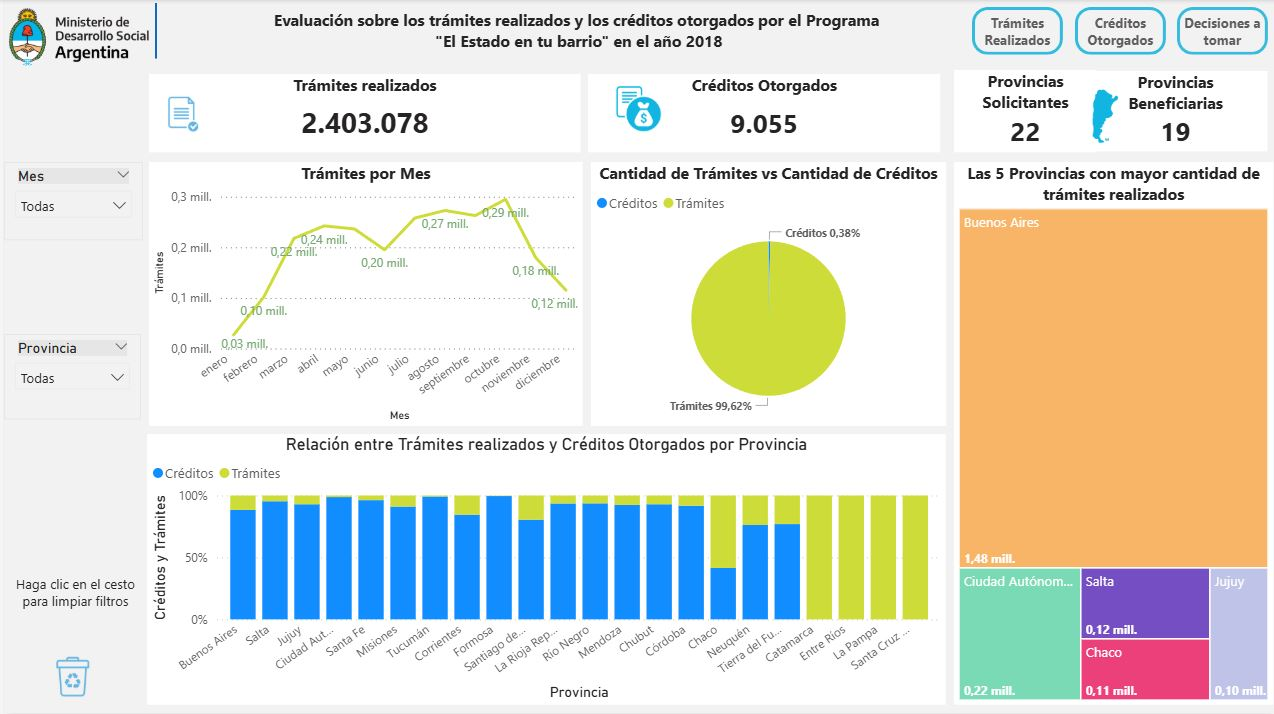

This screenshot's page, from the dashboard's own definition file:
{"tool":"powerbi","page":{"name":"General","canvas":[1280,720],"ordinal":1},"visuals":[{"type":"image","title":"Logo","box":[0,4,151.2,68.5],"z":0},{"type":"card","title":"Provincias Solicitantes","fields":{"Values":["Medidas.Cant. Pcias Solicitantes"]},"box":[957,72,144.1,82.6],"z":0,"group":"g2"},{"type":"card","title":"Trámites realizados","fields":{"Values":["Medidas.Total de Trámites"]},"box":[145.7,75.6,435.4,78.6],"z":0,"group":"g4"},{"type":"group","id":"g1","title":"Grupo 1","box":[588.6,75.6,355.4,79.5],"z":0,"group":"g3"},{"type":"card","title":"Créditos Otorgados","fields":{"Values":["Medidas.Total de Créditos otorgados"]},"box":[588.6,75.6,355.4,79.3],"z":0,"group":"g1"},{"type":"image","box":[590.6,79.6,98.2,62.1],"z":0,"group":"g5"},{"type":"actionButton","title":"Botón Créditos Otorgados","box":[1079.5,8.4,91.6,48.2],"z":1000},{"type":"card","title":"Provincias Beneficiarias","fields":{"Values":["Medidas.Cant. Pcias Beneficiarias"]},"box":[1087,73,186.5,80.6],"z":1000,"group":"g2"},{"type":"image","box":[144.1,87.1,68.5,55.4],"z":1000,"group":"g4"},{"type":"actionButton","title":"Botón Decisiones a tomar","box":[1181.9,8.4,91.6,48.2],"z":2000},{"type":"image","box":[1071.6,84.7,74.5,66.6],"z":2000,"group":"g2"},{"type":"actionButton","title":"Botón Trámites Realizados","box":[975.9,8.4,91.6,48.2],"z":2500},{"type":"shape","title":"Separador logo y títtulo","box":[127,4,52.4,56.4],"z":3000},{"type":"textbox","title":"Título","box":[186.7,4.8,785.5,56.6],"z":4000},{"type":"lineChart","title":" Trámites por Mes","fields":{"Y":["Sum(Trámites Realizados.Cantidad de Trámites)"],"Category":["Tabla Calendario.Período.Variación.Jerarquía de fechas.Mes"]},"box":[146.1,164.3,437.4,266],"z":5000},{"type":"pieChart","title":"Cantidad de Trámites vs Cantidad de Créditos","fields":{"Y":["Sum(Crédito O.Cantidad de Créditos)","Sum(Trámites Realizados.Cantidad de Trámites)"]},"box":[591.6,164.3,357.8,266],"z":6000},{"type":"hundredPercentStackedColumnChart","title":"Relación entre Trámites realizados  y  Créditos Otorgadospor Provincia","fields":{"Category":["Provincias.Provincia"],"Y":["Sum(Crédito O.Cantidad de Créditos)","Count(Trámites Realizados.Cantidad de Trámites)"]},"box":[144.1,438.4,805.3,273.1],"z":7000},{"type":"treemap","title":"Las 5 Provincias con mayor cantidad de trámites realizados","fields":{"Values":["Sum(Trámites Realizados.Total de Trámites)"],"Group":["Provincias.Provincia"]},"box":[957.5,164.3,321.5,547.3],"z":8000},{"type":"image","title":"Img Tachito","box":[40.3,646,58.5,73.6],"z":9000},{"type":"slicer","title":"Filtro Pcia","fields":{"Values":["Provincias.Provincia"]},"box":[0,337.6,138.1,85.7],"z":10000},{"type":"slicer","title":"Filtro Mes","fields":{"Values":["Tabla Calendario.Período.Variación.Jerarquía de fechas.Mes"]},"box":[0,164.3,140.1,78.6],"z":11000},{"type":"textbox","title":"Texto tachito","box":[0,575.5,144.1,51.4],"z":13000},{"type":"group","id":"g2","title":"Indicador Pcias","box":[957,72,316.5,82.6],"z":14000},{"type":"group","id":"g3","title":"Indicador Créditos Otorgados","box":[588.6,75.6,355.4,79.5],"z":15000},{"type":"group","id":"g4","title":"Indicador Trámite Realizados","box":[144.1,75.6,436.4,78.6],"z":16000},{"type":"group","id":"g5","title":"Grupo 2","box":[590.6,79.6,97.8,62.5],"z":17000}]}

Visuals, with their boxes in screenshot pixels (x1, y1, x2, y2), scaled from the page's 1280x720 canvas onto the 1274x714 screenshot:
"Logo" image: 0,4,150,72
"Provincias Solicitantes" card: 953,71,1096,153
"Trámites realizados" card: 145,75,578,153
"Grupo 1" group: 586,75,940,154
"Créditos Otorgados" card: 586,75,940,154
image: 588,79,686,141
"Botón Créditos Otorgados" actionButton: 1074,8,1166,56
"Provincias Beneficiarias" card: 1082,72,1268,152
image: 143,86,212,141
"Botón Decisiones a tomar" actionButton: 1176,8,1268,56
image: 1067,84,1141,150
"Botón Trámites Realizados" actionButton: 971,8,1062,56
"Separador logo y títtulo" shape: 126,4,179,60
"Título" textbox: 186,5,968,61
" Trámites por Mes" lineChart: 145,163,581,427
"Cantidad de Trámites vs Cantidad de Créditos" pieChart: 589,163,945,427
"Relación entre Trámites realizados  y  Créditos Otorgadospor Provincia" hundredPercentStackedColumnChart: 143,435,945,706
"Las 5 Provincias con mayor cantidad de trámites realizados" treemap: 953,163,1273,706
"Img Tachito" image: 40,641,98,713
"Filtro Pcia" slicer: 0,335,137,420
"Filtro Mes" slicer: 0,163,139,241
"Texto tachito" textbox: 0,571,143,622
"Indicador Pcias" group: 953,71,1268,153
"Indicador Créditos Otorgados" group: 586,75,940,154
"Indicador Trámite Realizados" group: 143,75,578,153
"Grupo 2" group: 588,79,685,141
